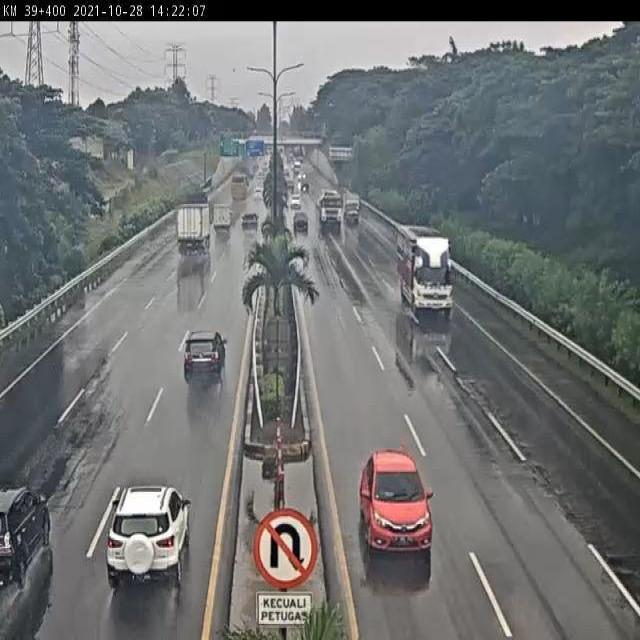car: (104, 480, 194, 591), (351, 448, 436, 560), (291, 209, 310, 235), (240, 210, 261, 233)
truck-l-: (393, 223, 454, 313), (173, 201, 212, 256)
truck-s-: (210, 202, 233, 235)
truck-xl-: (316, 188, 343, 231)
